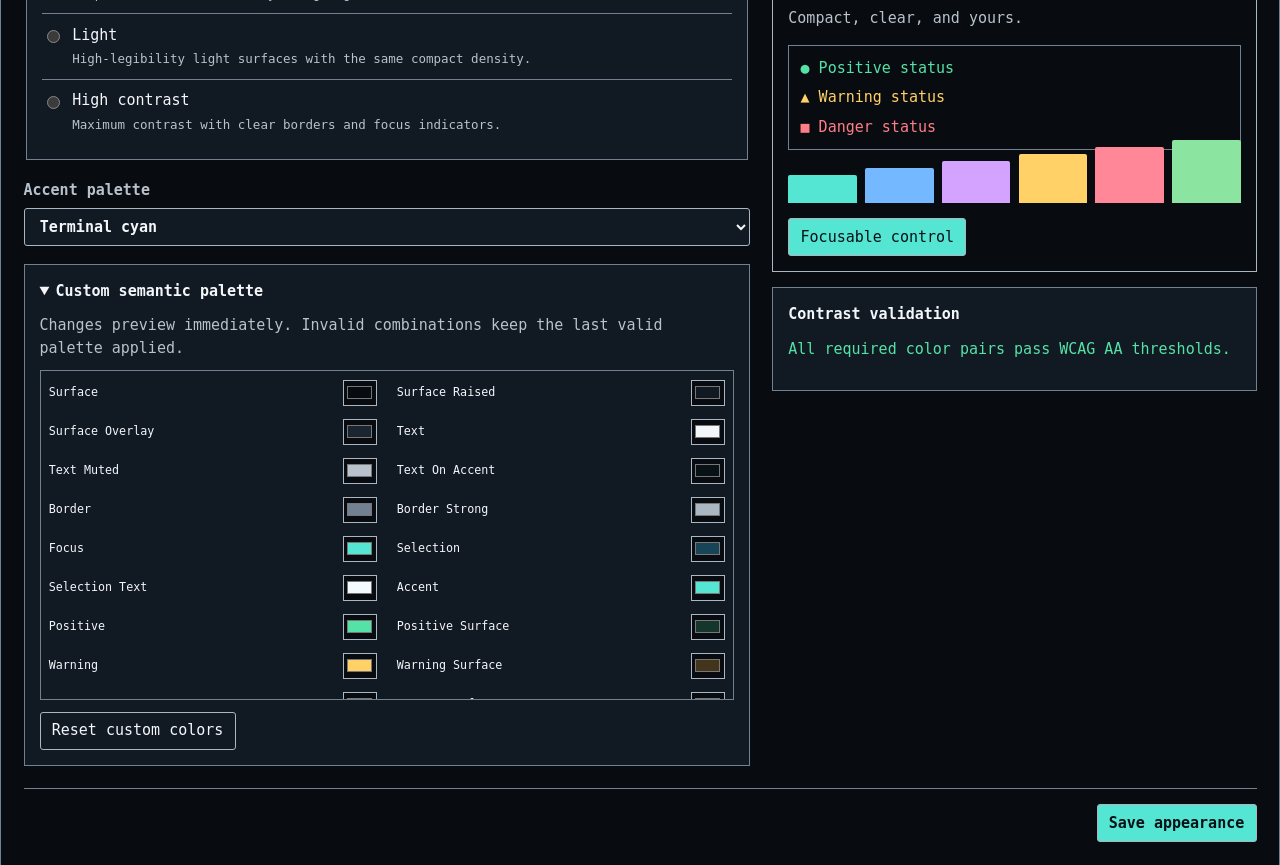
Test: AppearanceSettings › saves only appearance preferences and labels the account-backed result
(page scrolled)
Click the button "Save appearance" at (1176, 823), box [1096,804,1256,842]
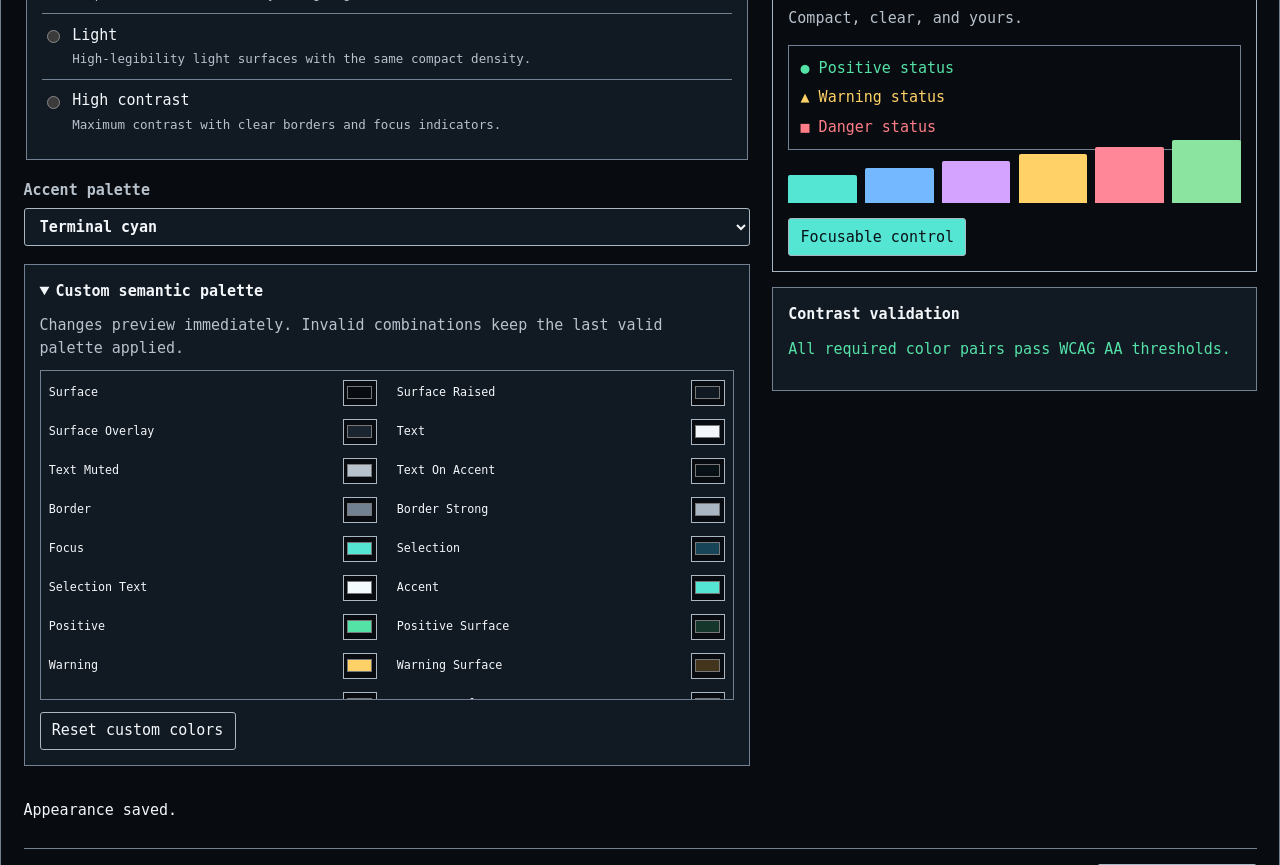
Expected: the text "Appearance saved." is shown, [24,801,177,819]
